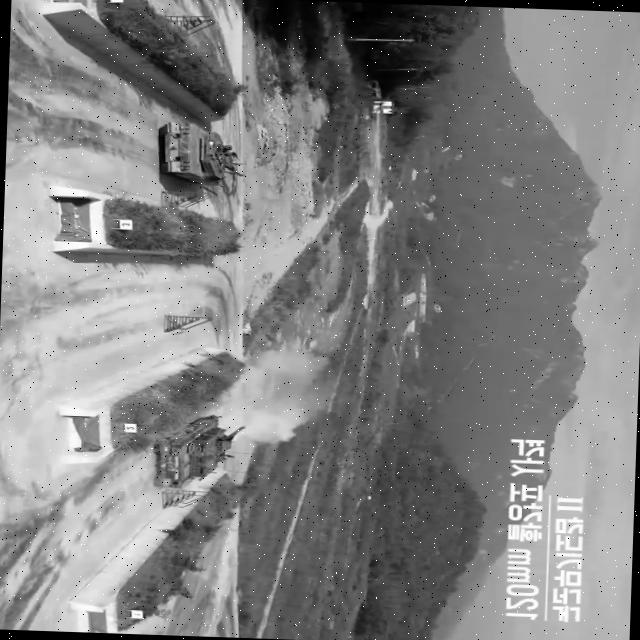korea tank: (150, 410, 247, 490)
